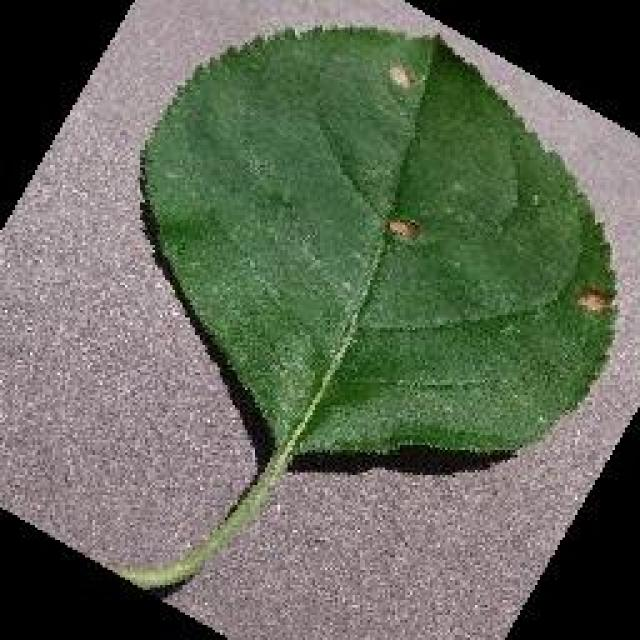Black_rot: (105, 20, 617, 592)
